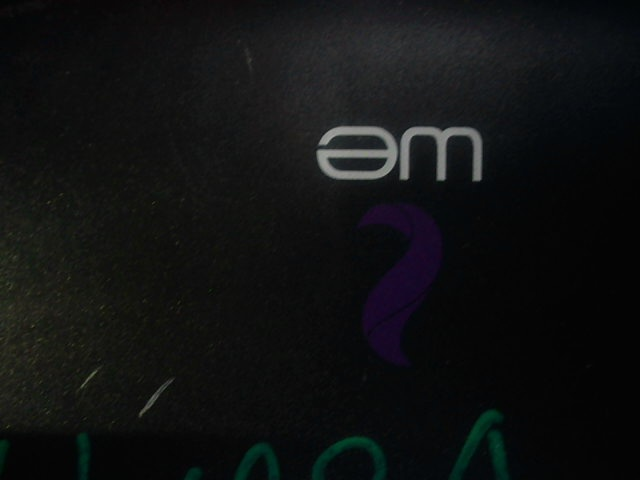AT_We: (302, 117, 491, 369)
